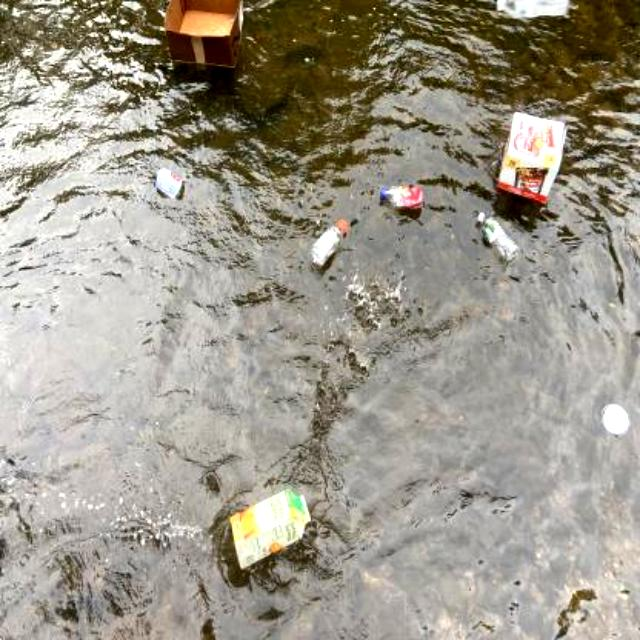Cardboard: (222, 484, 316, 576), (492, 106, 570, 206), (158, 0, 247, 68)
Paper: (147, 161, 190, 213), (596, 401, 630, 442)
Plastic: (471, 208, 524, 266), (306, 214, 352, 274), (374, 173, 430, 220), (488, 0, 572, 26)
